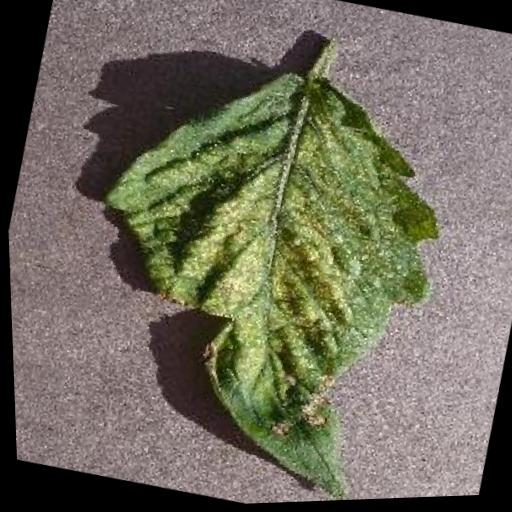Spider Mites: (45, 33, 472, 511)
